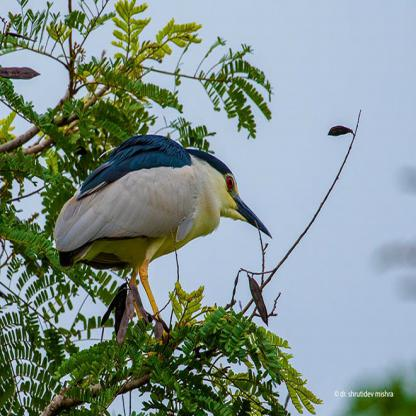Burung: (51, 133, 274, 366)
